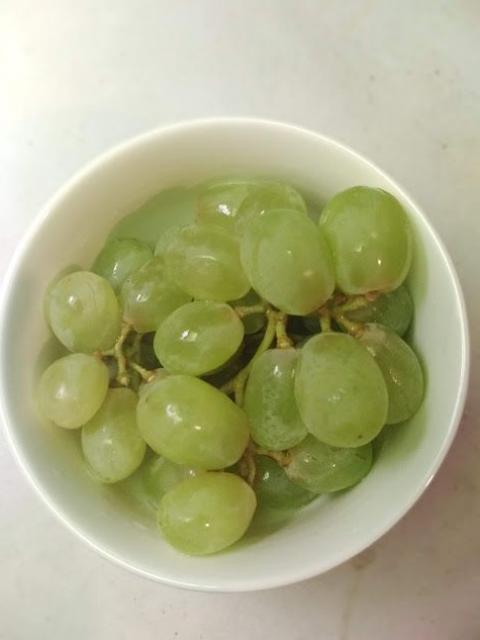Grapes: (297, 324, 391, 448), (136, 376, 248, 472), (324, 188, 414, 298), (242, 210, 332, 310), (158, 472, 256, 556), (154, 301, 246, 377), (243, 341, 305, 452), (163, 222, 247, 300), (82, 386, 142, 486), (46, 272, 118, 354), (33, 354, 109, 430)
